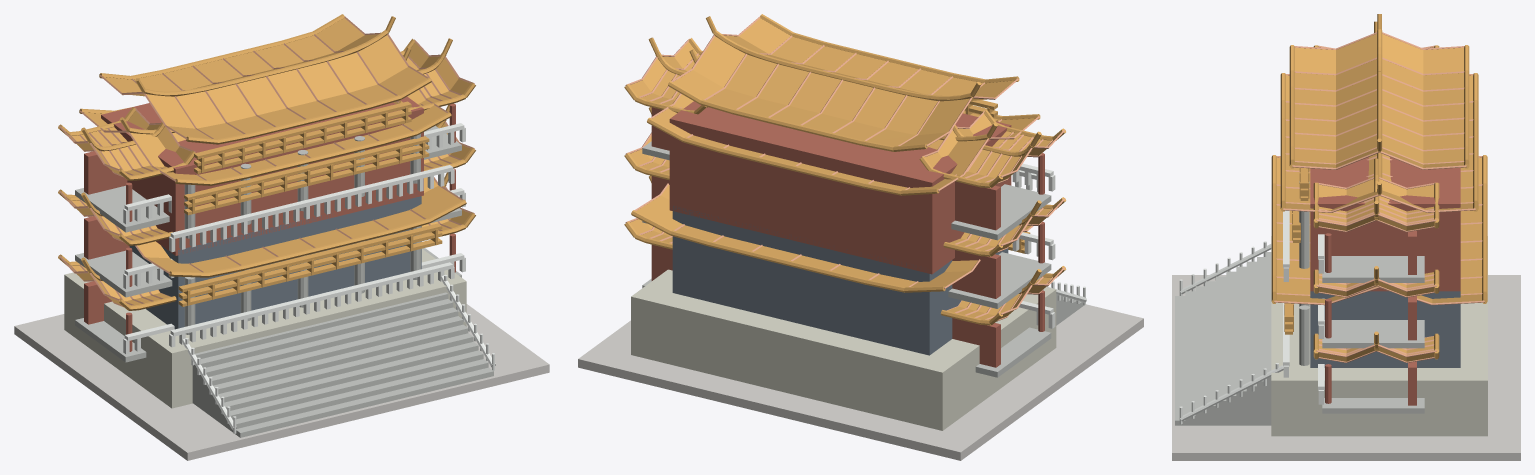
The model's file is dot-LCG.glb.
The picture shows the model from 3 angles, left to right: view 1: azimuth 30°, elevation 25°; view 2: azimuth 150°, elevation 25°; view 3: azimuth 270°, elevation 25°; orthographic projection. The views are drawn at different scales.
Visible parts, largest first — view 1: pave; view 2: pave; view 3: pave.
Part boxes in pixels (left/top/right/bottom): pave: left=14, top=14, right=549, bottom=460; pave: left=578, top=14, right=1143, bottom=460; pave: left=1172, top=14, right=1520, bottom=460.
Bounding box in the file's own units: 6.23 × 4.72 × 5.04.
Materials: 1 (1 with a texture image).
